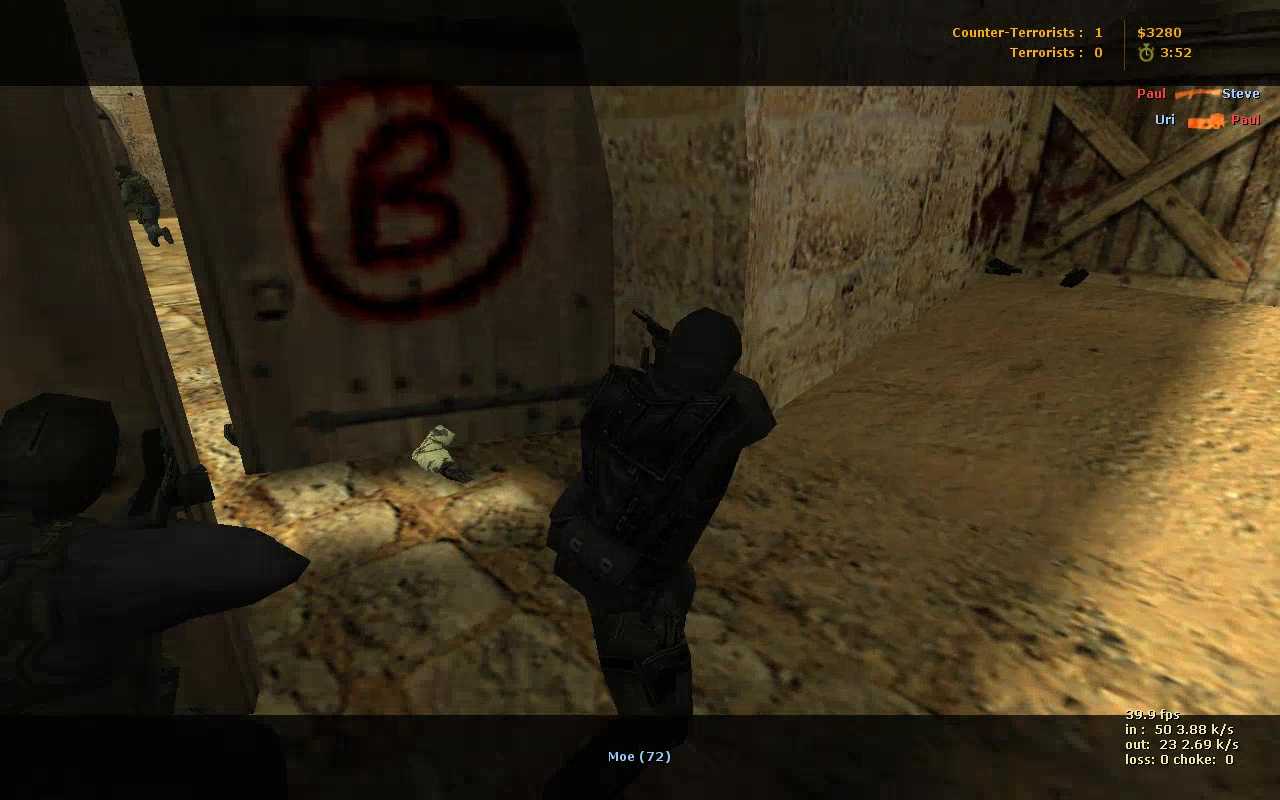ct: (531, 301, 780, 720), (109, 164, 175, 246)
